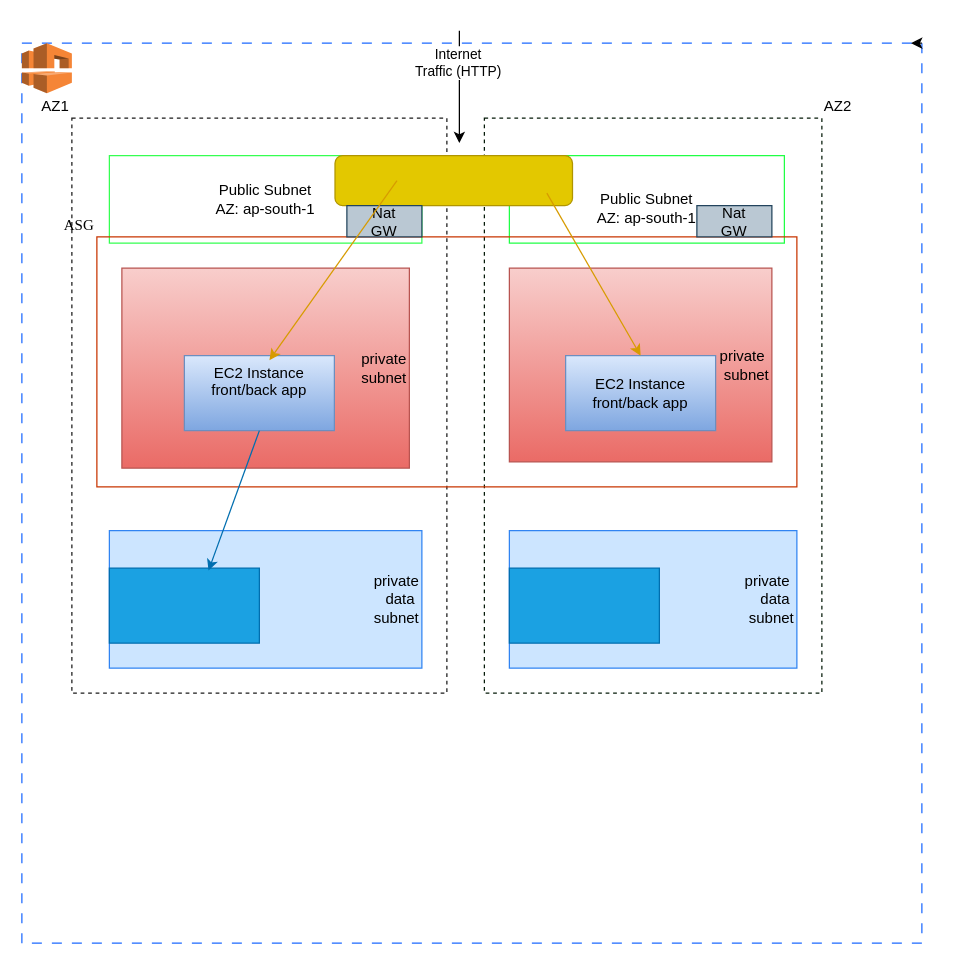
This 954x965 diagram has some shape labels left out. The centre of each missing label's shape, as x and y in pixels:
"ALB" belongs at (453,180).
"RDS primary" belongs at (183,605).
"RDS Standby" belongs at (583,605).
